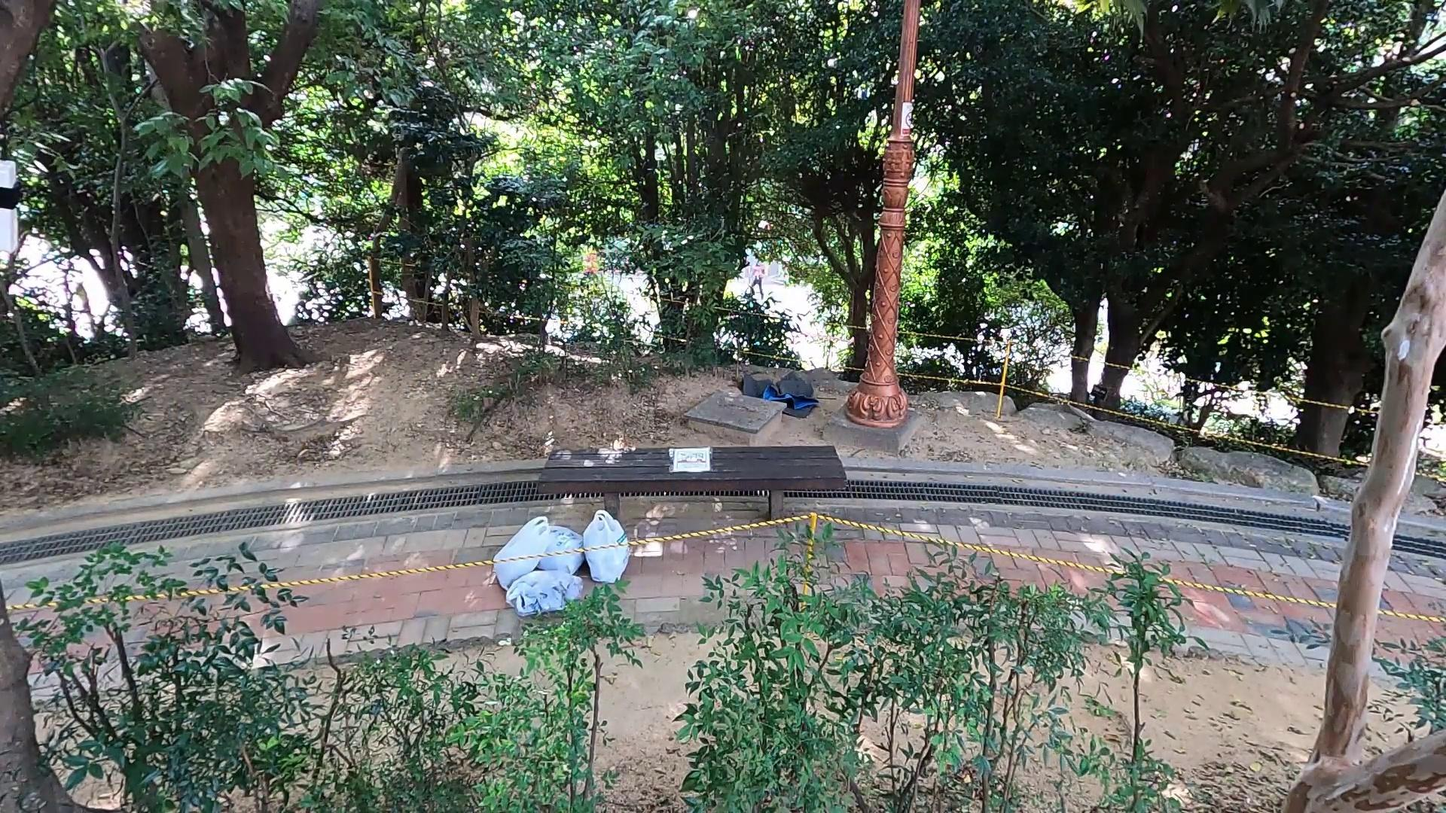trash: (490, 516, 554, 591), (581, 507, 635, 586), (739, 363, 816, 417), (499, 565, 585, 610), (534, 521, 583, 582)
